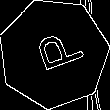P_W: (24, 28, 84, 79)
